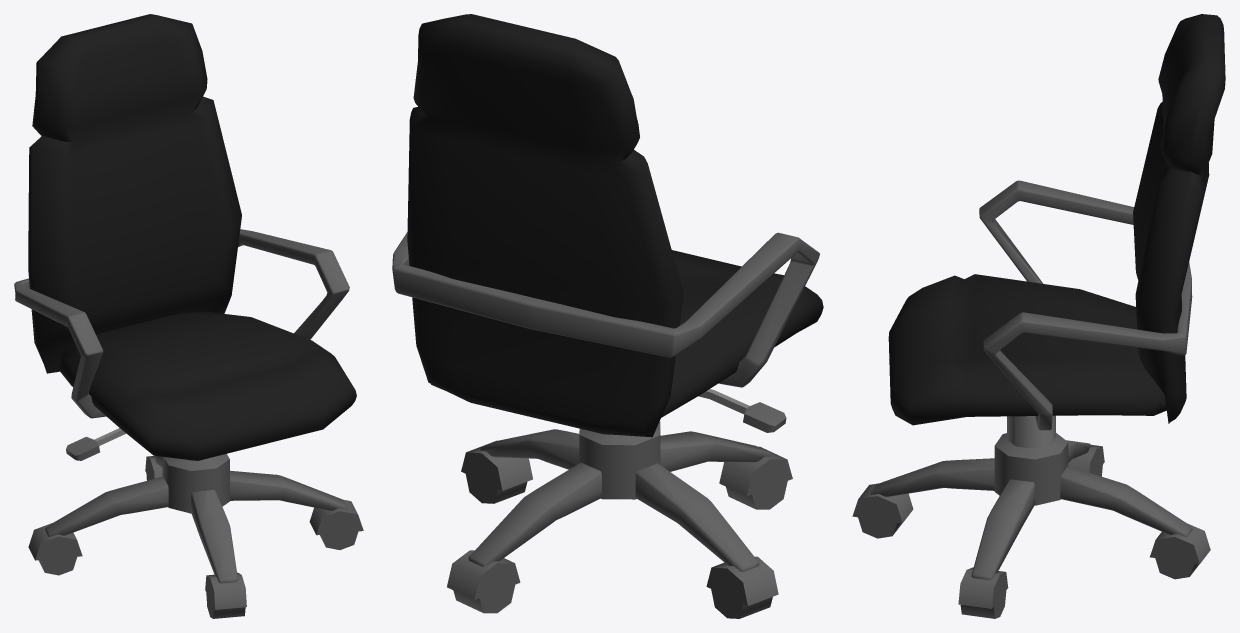
Rendered from low_poly_computer_chair.glb.
3 renders of one model, left to right at view 1: azimuth 30°, elevation 25°; view 2: azimuth 150°, elevation 25°; view 3: azimuth 270°, elevation 25°, orthographic. The views are drawn at different scales.
Parts seen in each view (by area): view 1: Computer Chair; view 2: Computer Chair; view 3: Computer Chair.
Part boxes in pixels (left/top/right/bottom): Computer Chair: left=14, top=14, right=363, bottom=618; Computer Chair: left=392, top=14, right=823, bottom=618; Computer Chair: left=852, top=14, right=1225, bottom=618.
Bounding box in the file's own units: 2.93 × 4.63 × 3.05.
1 material, 1 textured.
